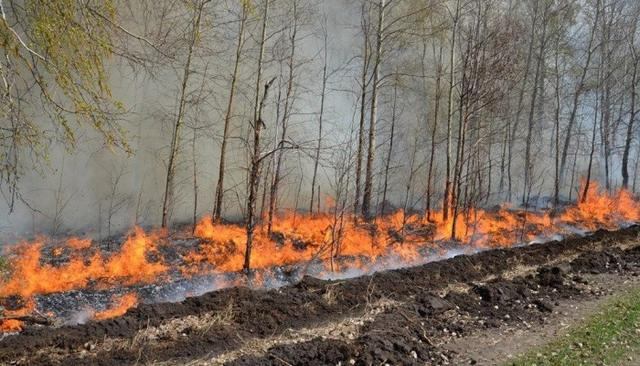fire: (196, 207, 334, 284), (1, 230, 156, 287), (339, 213, 417, 256), (427, 206, 519, 238), (575, 190, 640, 221), (98, 294, 138, 317)
